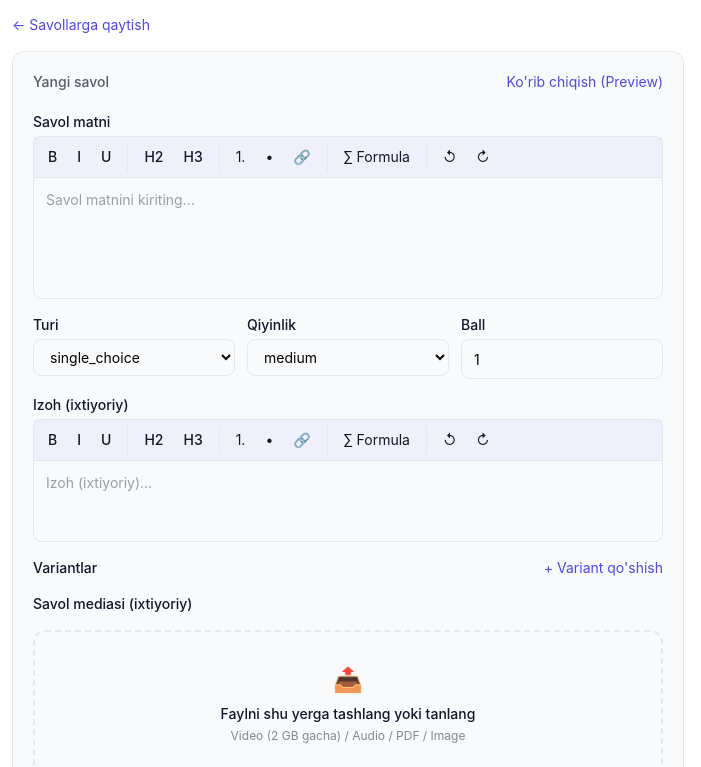
Test case: QuestionFormPage — conditional option-set validation (approved decision 7) › does not render an options section at all for 'essay' (no options expected)
Select "essay" in the dropdown labelled "Turi" at coordinates (134, 358), box [33,339,235,376]
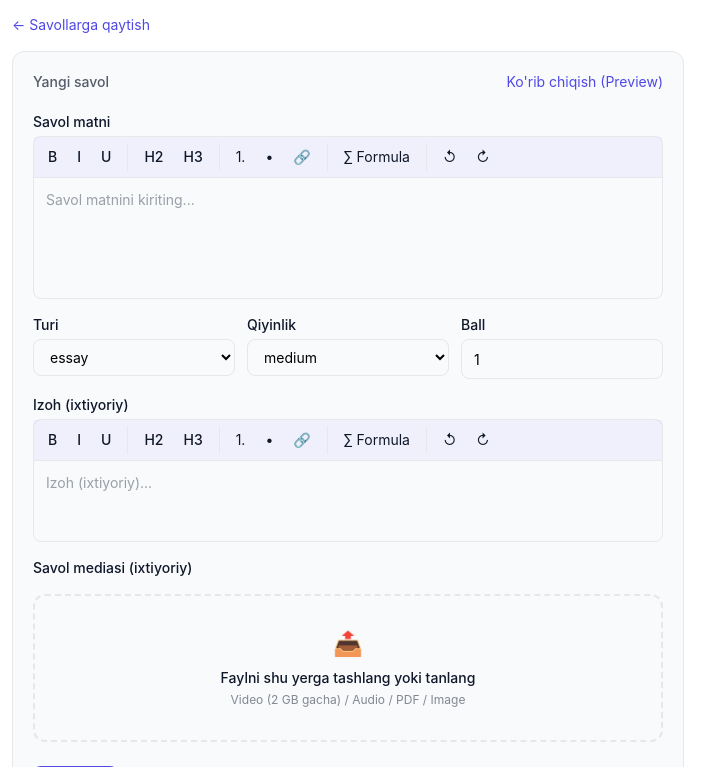
Expected: the text "Variantlar" is gone
